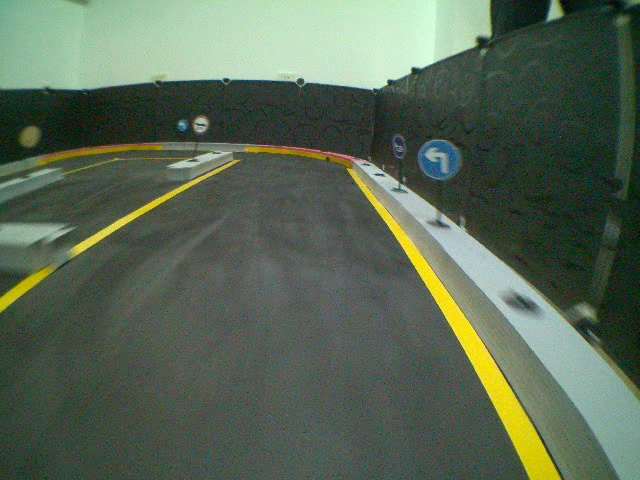Check: (193, 114, 210, 134)
horn: (392, 130, 408, 162)
turn: (419, 137, 467, 182), (175, 116, 188, 135)
